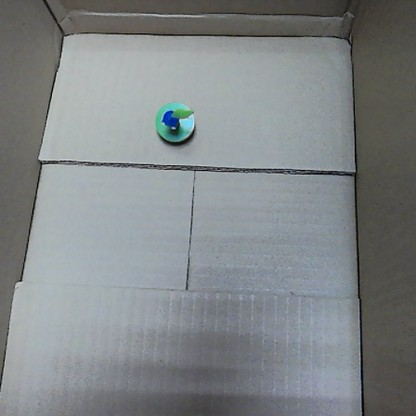leafairy: (150, 99, 196, 144)
